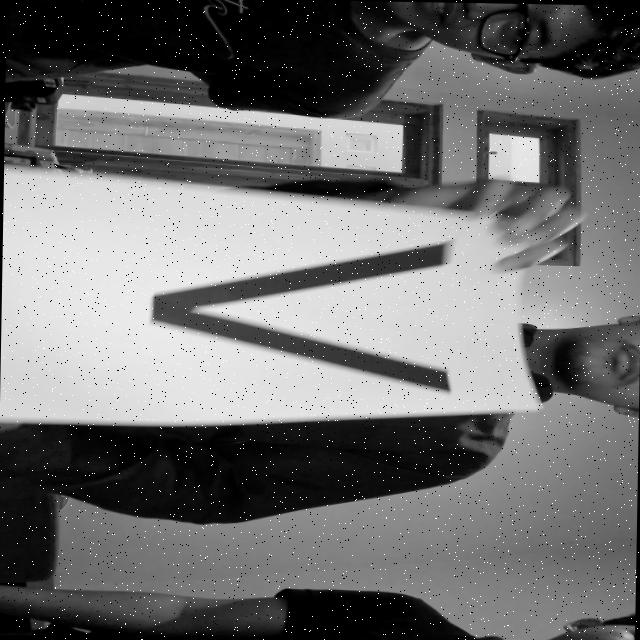v: (88, 224, 472, 432)
